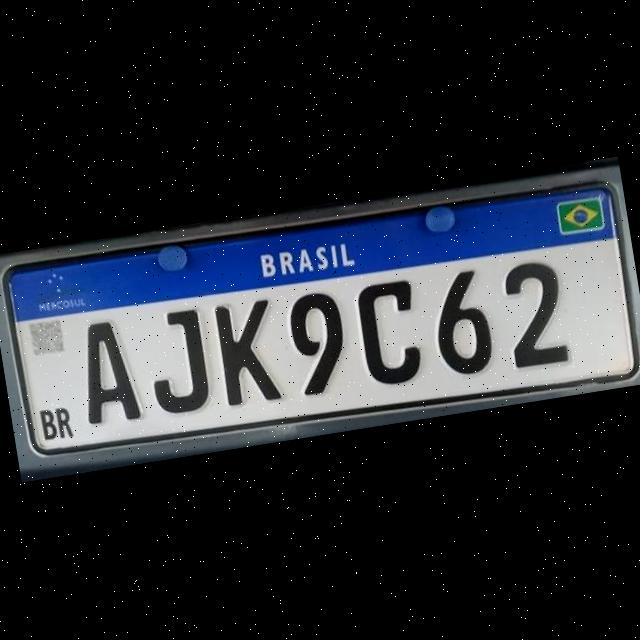Caractere: (498, 255, 574, 372), (212, 293, 288, 410), (354, 274, 428, 391), (424, 265, 498, 381), (140, 306, 214, 420), (282, 286, 355, 401), (74, 314, 145, 429)
Placa: (0, 168, 640, 476)
